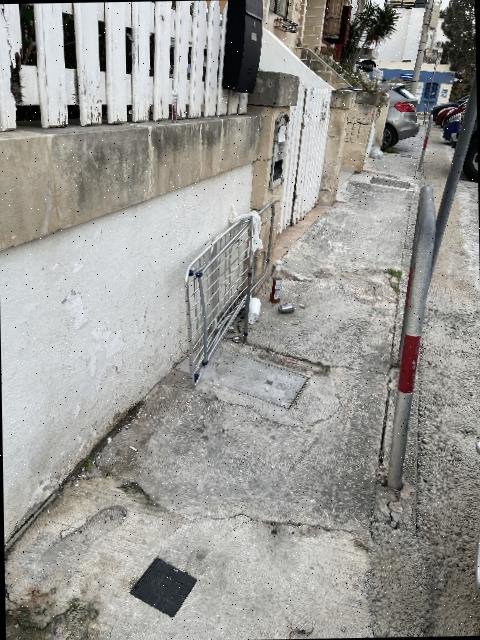Other: (228, 206, 263, 252), (248, 297, 260, 324), (269, 277, 281, 304), (278, 302, 294, 314), (275, 260, 281, 270), (299, 304, 306, 309)
